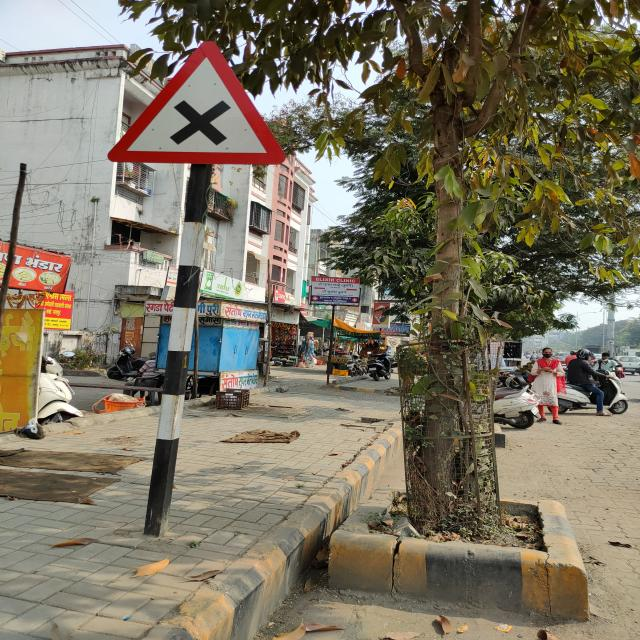CROSS_ROAD: (104, 37, 288, 171)
